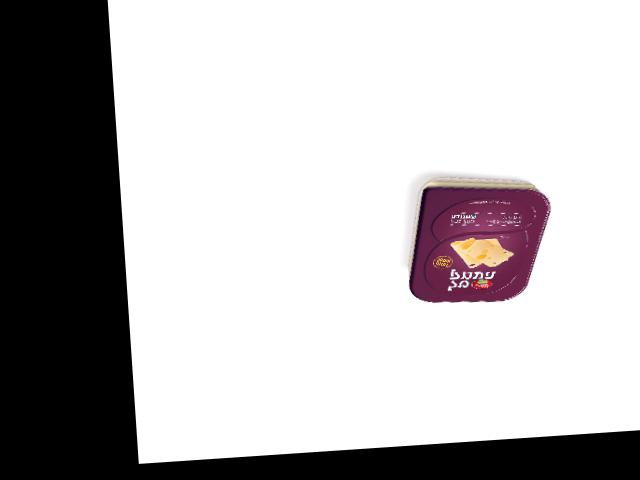cheese: (401, 170, 557, 308)
